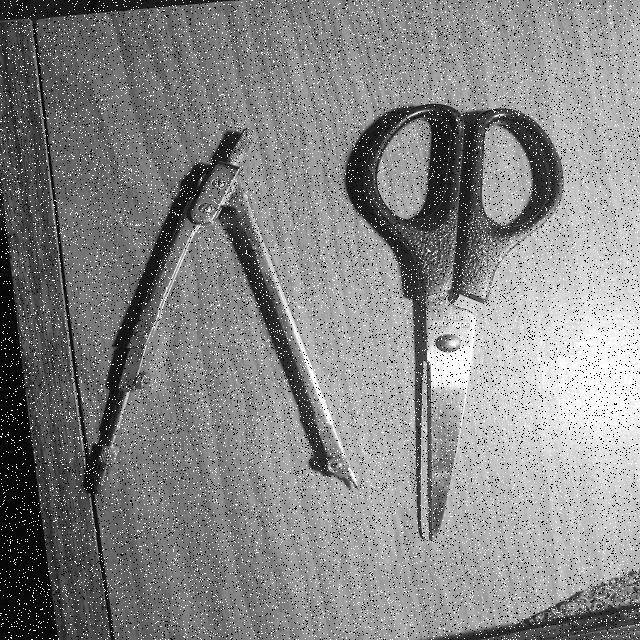scissors: (331, 92, 586, 565)
